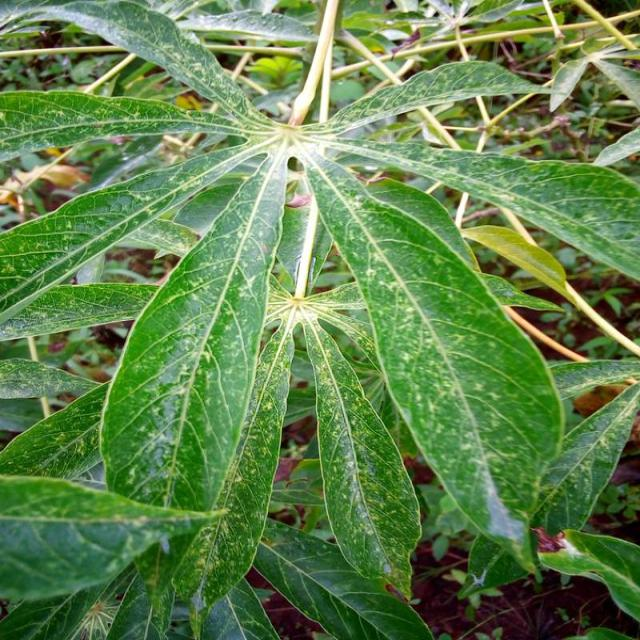cassava leaf: (0, 1, 638, 637), (299, 145, 566, 577), (96, 143, 290, 609)
